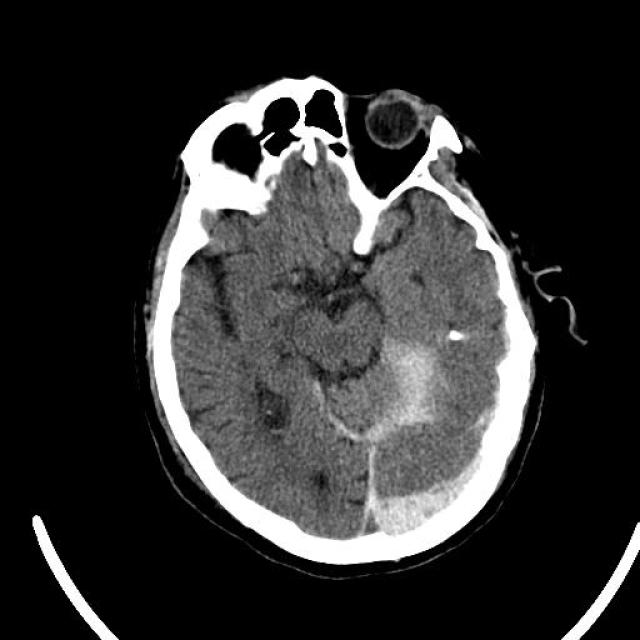Intraparenchymal: (360, 303, 451, 427)
Subdural: (377, 430, 505, 552), (328, 422, 408, 556)
